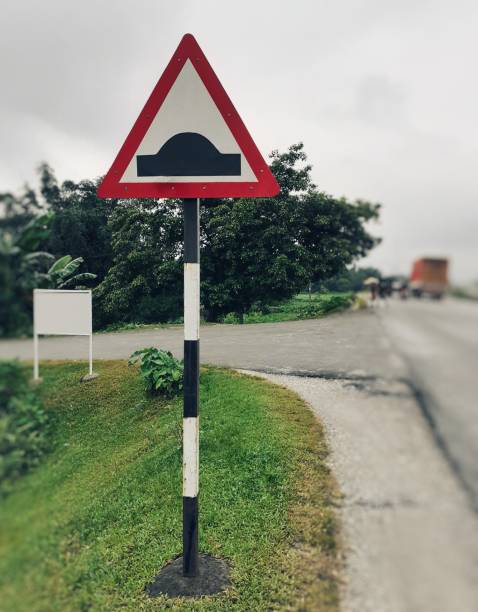speed-breaker: (95, 34, 281, 199)
